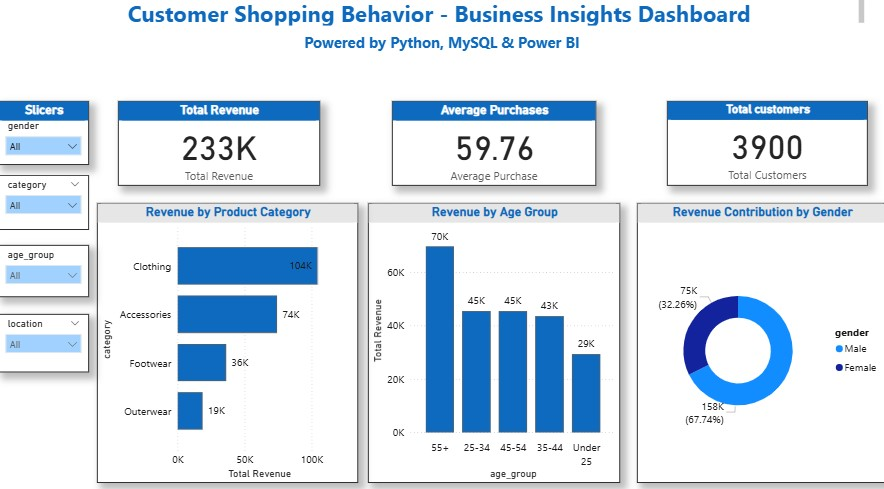

The dashboard page shown, as its layout file describes it:
{"tool":"powerbi","page":{"name":"Page 1","canvas":[1280,720],"ordinal":0},"visuals":[{"type":"card","title":"Total Revenue","fields":{"Values":["customer_shopping_behavior_clean.Total Revenue"]},"box":[172.8,152.6,290.9,122.4],"z":0},{"type":"card","title":"Average Purchases","fields":{"Values":["customer_shopping_behavior_clean.Average Purchase"]},"box":[567.4,152.6,293.8,122.4],"z":1000},{"type":"card","title":"Total customers","fields":{"Values":["customer_shopping_behavior_clean.Total Customers"]},"box":[963.4,152.6,289.4,122.4],"z":2000},{"type":"clusteredColumnChart","title":"Revenue by Age Group","fields":{"Category":["customer_shopping_behavior_clean.age_group"],"Y":["customer_shopping_behavior_clean.Total Revenue"]},"box":[532.8,299.5,362.9,403.2],"z":3000},{"type":"clusteredBarChart","title":"Revenue by Product Category","fields":{"Category":["customer_shopping_behavior_clean.category"],"Y":["customer_shopping_behavior_clean.Total Revenue"]},"box":[142.6,299.5,375.8,403.2],"z":4000},{"type":"donutChart","title":"Revenue Contribution by Gender","fields":{"Category":["customer_shopping_behavior_clean.gender"],"Y":["customer_shopping_behavior_clean.Total Revenue"]},"box":[920.2,299.5,360,403.2],"z":5000},{"type":"slicer","title":"Slicers","fields":{"Values":["customer_shopping_behavior_clean.gender"]},"box":[0,152.6,131,92.2],"z":6000},{"type":"slicer","fields":{"Values":["customer_shopping_behavior_clean.category"]},"box":[0,259.2,131,79.2],"z":7000},{"type":"slicer","fields":{"Values":["customer_shopping_behavior_clean.age_group"]},"box":[0,360,131,74.9],"z":8000},{"type":"slicer","fields":{"Values":["customer_shopping_behavior_clean.location"]},"box":[0,459.4,131,83.5],"z":9000},{"type":"textbox","box":[27.4,0,1225.4,49],"z":10000},{"type":"textbox","box":[27.4,49,1224,50.4],"z":11000}]}

Visuals, with their boxes in screenshot pixels (x1, y1, x2, y2), scaled from the page's 1280x720 canvas onto the 884x489 screenshot:
"Total Revenue" card: BBox(119, 104, 320, 187)
"Average Purchases" card: BBox(392, 104, 595, 187)
"Total customers" card: BBox(665, 104, 865, 187)
"Revenue by Age Group" clusteredColumnChart: BBox(368, 203, 619, 477)
"Revenue by Product Category" clusteredBarChart: BBox(98, 203, 358, 477)
"Revenue Contribution by Gender" donutChart: BBox(636, 203, 883, 477)
"Slicers" slicer: BBox(0, 104, 90, 166)
slicer - customer_shopping_behavior_clean.category: BBox(0, 176, 90, 230)
slicer - customer_shopping_behavior_clean.age_group: BBox(0, 244, 90, 295)
slicer - customer_shopping_behavior_clean.location: BBox(0, 312, 90, 369)
textbox: BBox(19, 0, 865, 33)
textbox: BBox(19, 33, 864, 68)
